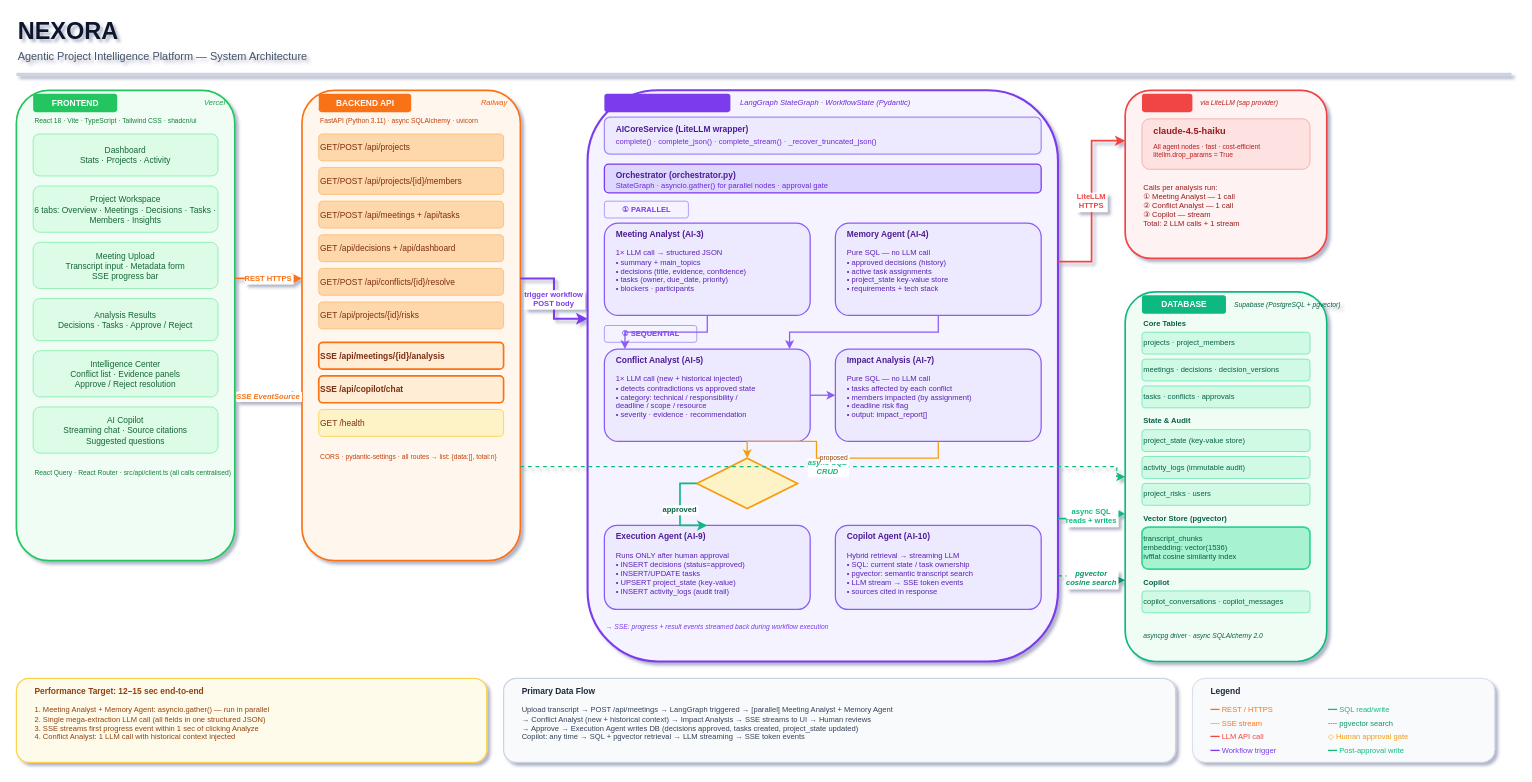
Image size: 1532x782. Some labels were removed from this diagram. Here are the shapes that lost their labels. From the top down, the centre of each, then its label:
At [667,102]: "AGENTIC HARNESS".
At [1167,102]: "LLM".
At [747,483]: "Human Approval".
